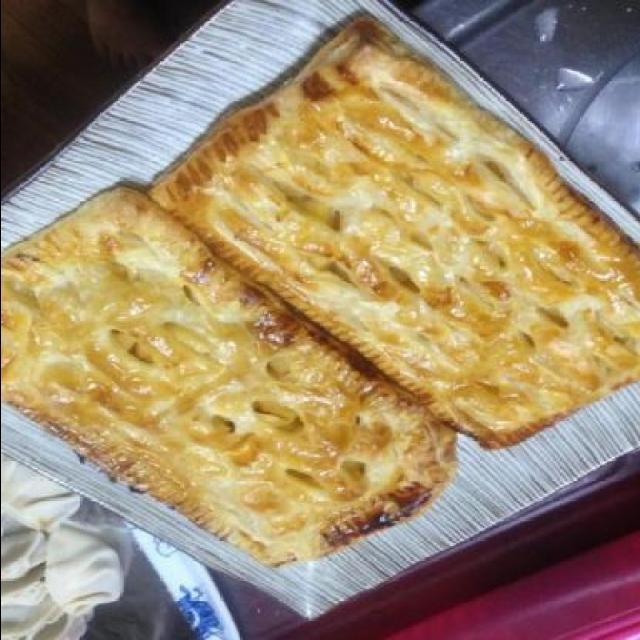Apple: (7, 270, 438, 567), (456, 154, 632, 437)
